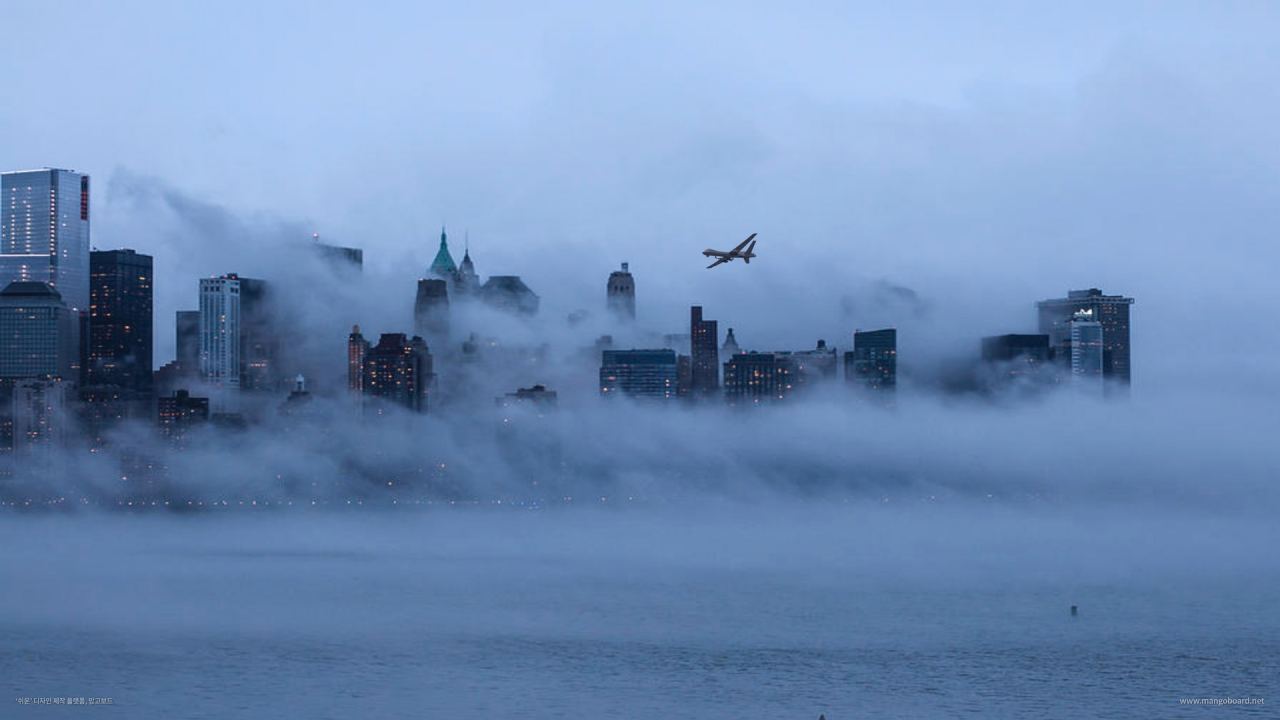military drone: (701, 232, 756, 269)
